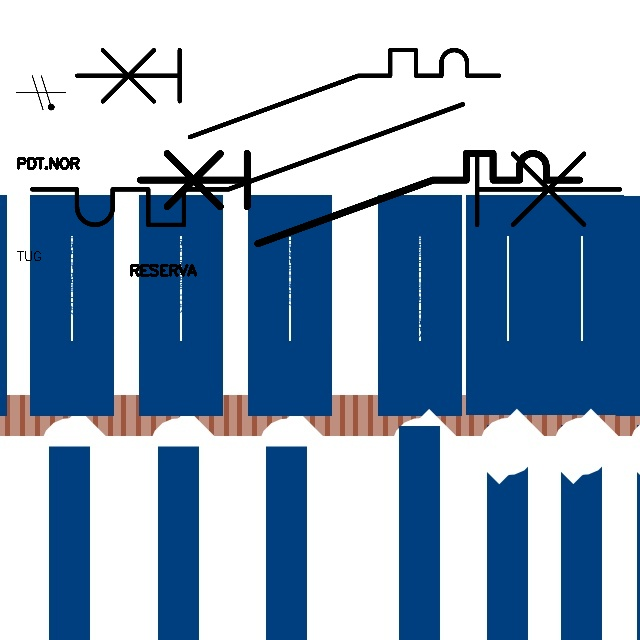interruptor_termomagnetico: (17, 89, 635, 240), (129, 142, 591, 255), (66, 39, 510, 147)
